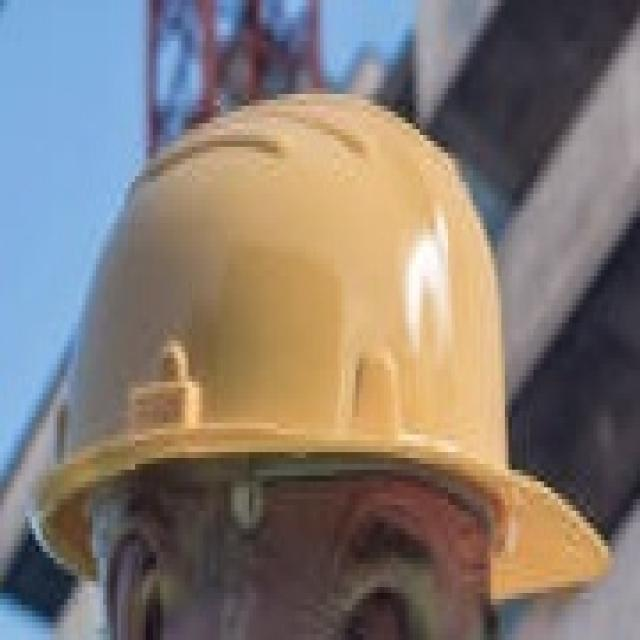safety_helmet: (20, 88, 615, 632)
